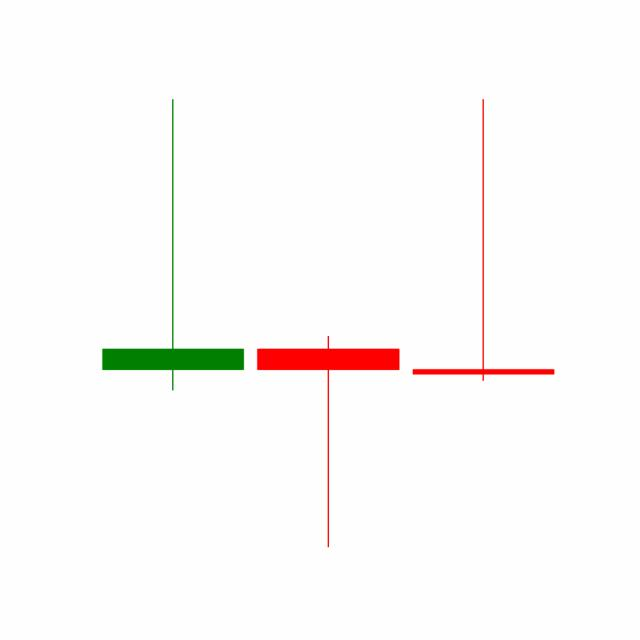Dragonfly Doji: (249, 333, 406, 550)
